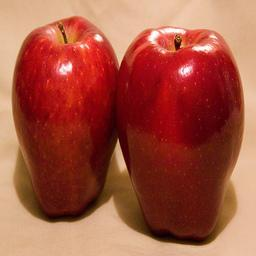apple: (118, 30, 244, 247), (9, 12, 120, 223)
